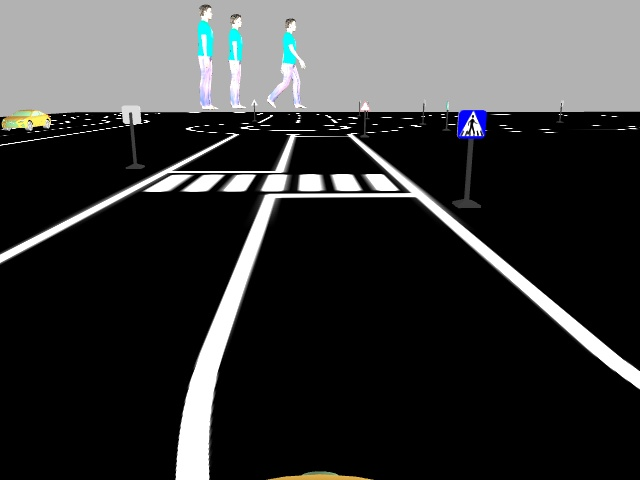Crosswalk: (455, 110, 488, 140)
